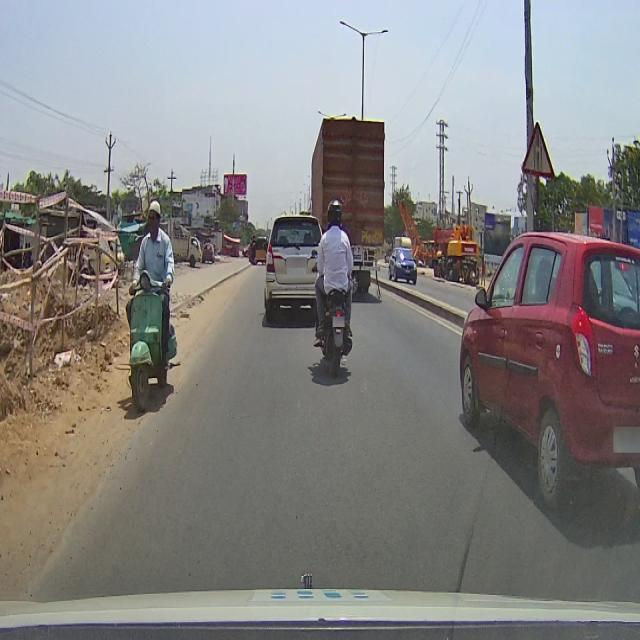car ahead at: (455, 232, 640, 513), (262, 209, 316, 312)
motorcycle ahead at: (124, 266, 178, 412), (312, 282, 363, 376)
